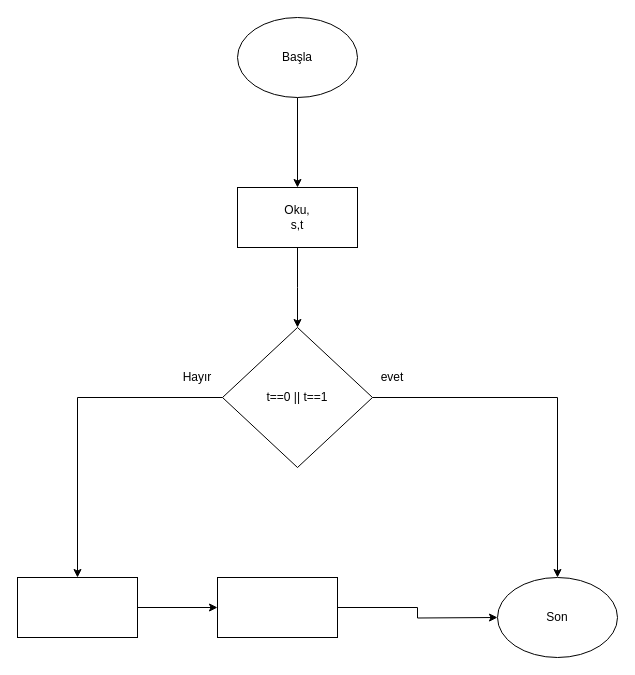
This 635x675 diagram has some shape labels left out. Here are the shapes that lost their labels. From the top down, the centre of each, then its label:
At (77,607): "p=lns/lnt".
At (277,607): "Yaz, p".
